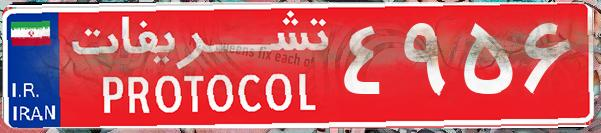4: (340, 20, 400, 115)
5: (460, 20, 520, 115)
6: (520, 20, 580, 115)
9: (400, 20, 460, 115)
تشریفات: (60, 8, 340, 125)
